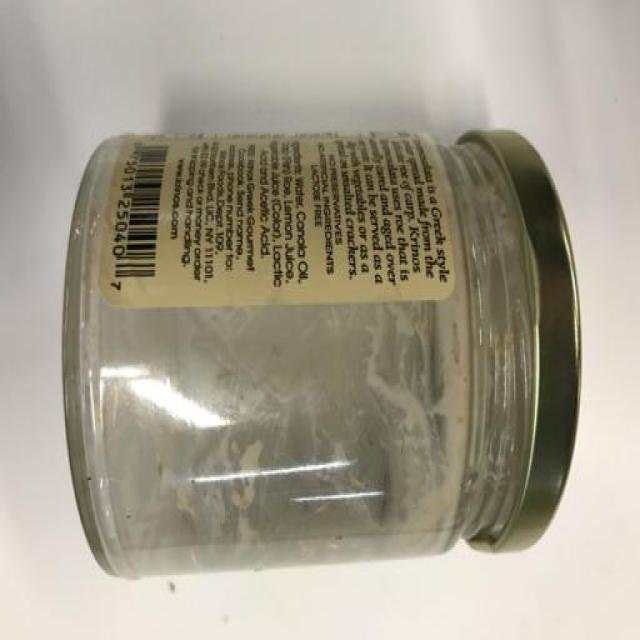glass: (60, 125, 582, 580)
